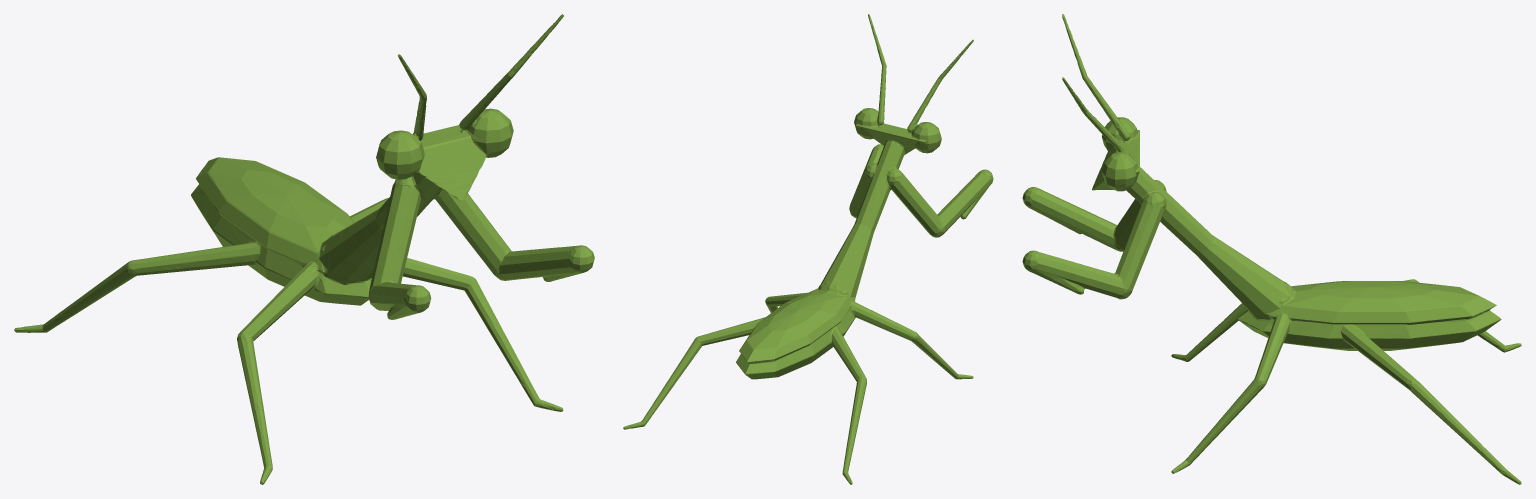
The model's file is NEW_RECOVERY_052_LOD1.fbx.
3 renders of one model, left to right at view 1: azimuth 30°, elevation 25°; view 2: azimuth 150°, elevation 25°; view 3: azimuth 270°, elevation 25°, orthographic. The views are drawn at different scales.
Visible parts, largest first — view 1: Mantis_whole_solid; view 2: Mantis_whole_solid; view 3: Mantis_whole_solid.
Part boxes in pixels (x1,y1,x2,y2): Mantis_whole_solid: (14,14,594,484); Mantis_whole_solid: (623,14,993,484); Mantis_whole_solid: (1022,14,1521,484).
Size of the model in its own units: 281 by 425 by 348.
